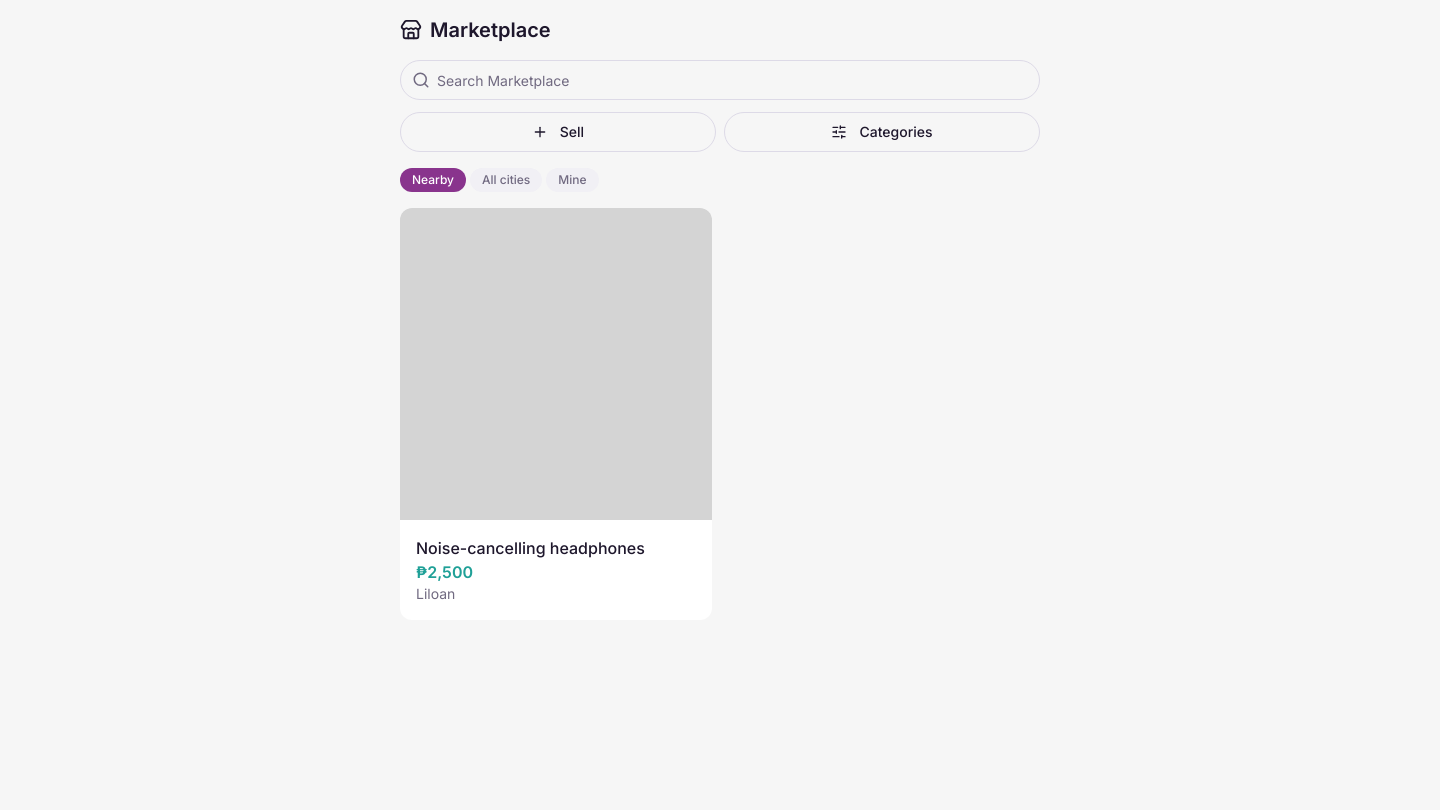
Test: MarketplacePage › opens the Sell dialog when Sell is clicked
Click the button "Sell". click: coordinates (558, 132)
box: top-left (400, 112), bottom-right (716, 152)
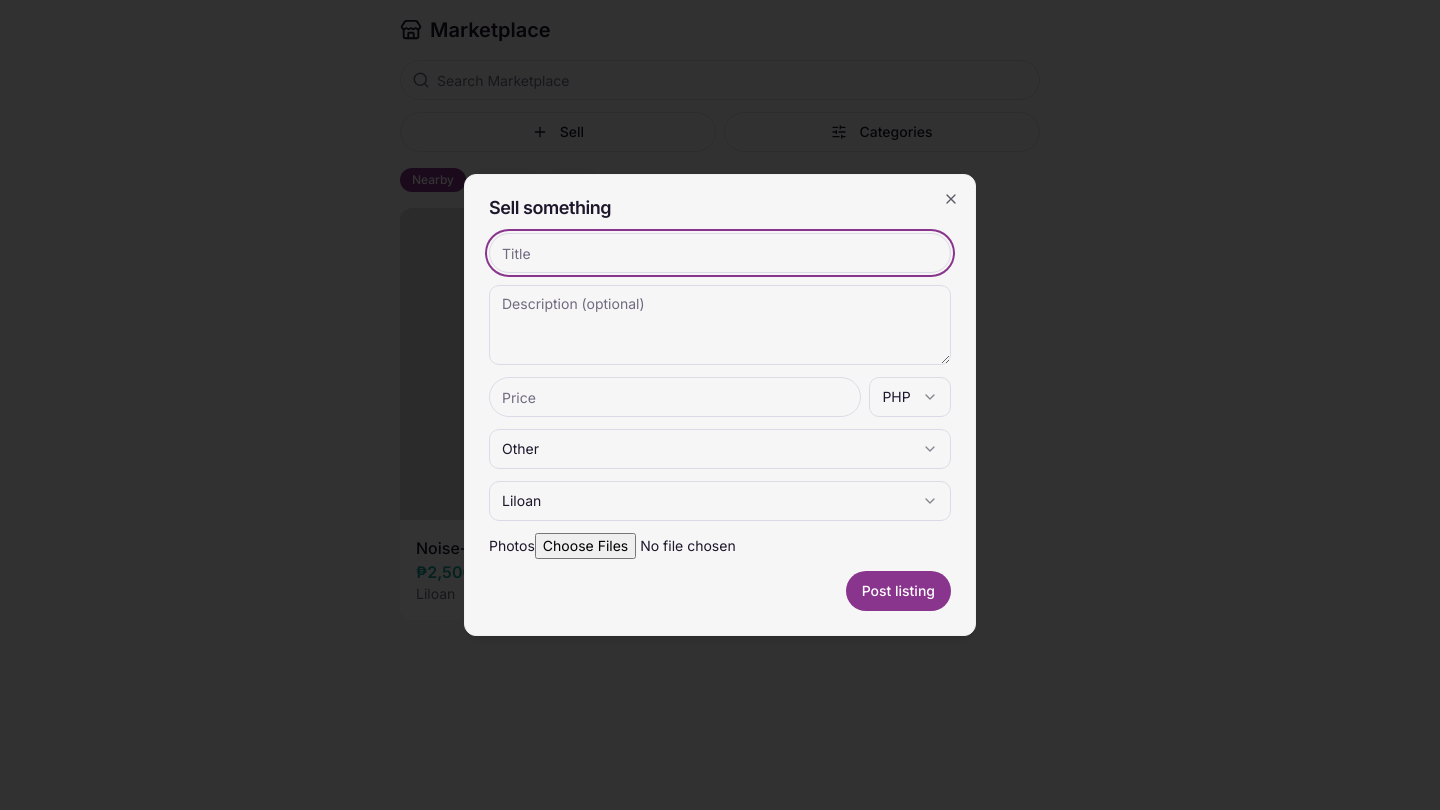
Now the heading "Sell something" is shown, box top-left (489, 197), bottom-right (611, 218)
